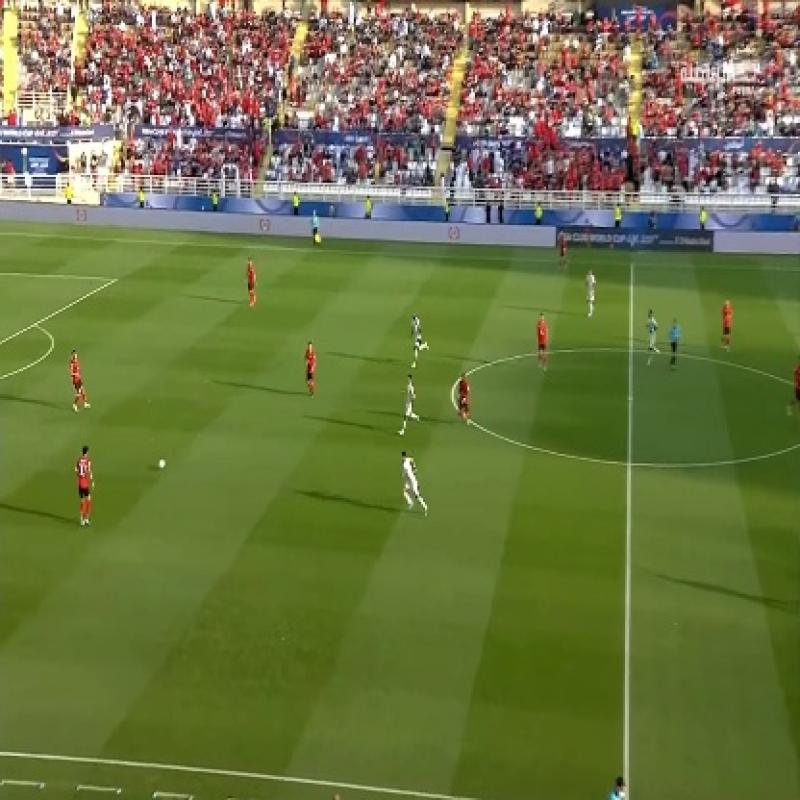10: (25, 312, 42, 332)
13: (622, 250, 640, 273)
14: (619, 332, 642, 360)
15: (616, 446, 640, 478)
9: (104, 270, 121, 288)
c: (442, 378, 462, 404)
